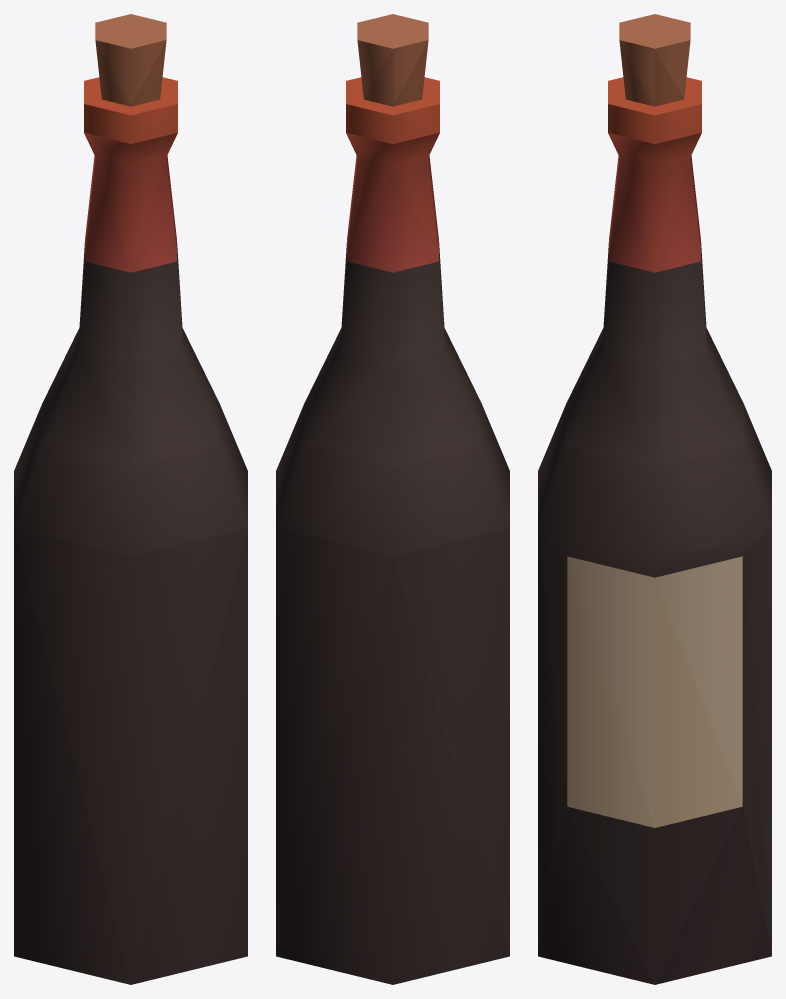
Rendered from food_wine_red.glb.
3 renders of one model, left to right at view 1: azimuth 30°, elevation 25°; view 2: azimuth 150°, elevation 25°; view 3: azimuth 270°, elevation 25°, orthographic.
Visible parts, largest first — view 1: food_wine_red; view 2: food_wine_red; view 3: food_wine_red.
Boxes of the visible parts, box(x1,y1,x2,y2) form: food_wine_red: box(14, 14, 247, 984); food_wine_red: box(276, 14, 509, 984); food_wine_red: box(538, 14, 771, 984).
Bounding box in the file's own units: 0.1908 × 0.6989 × 0.1652.
